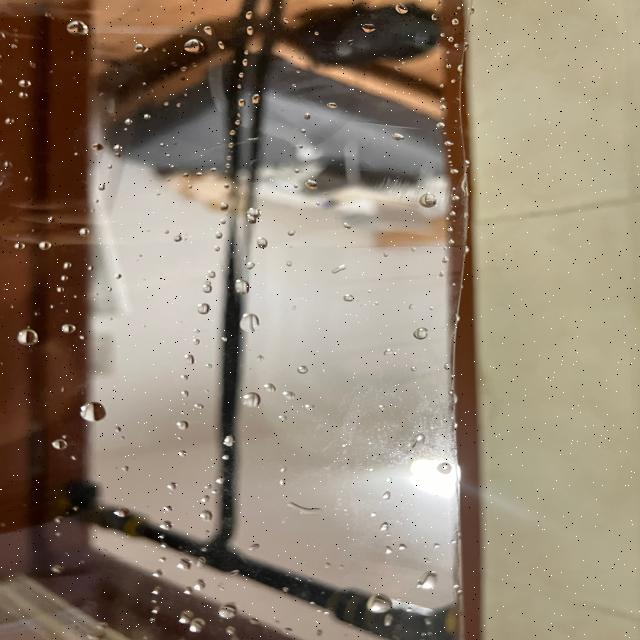raindrop: (408, 570, 442, 598), (289, 500, 329, 520), (13, 326, 40, 351), (212, 600, 244, 620), (238, 311, 263, 334), (78, 400, 102, 420), (234, 391, 258, 411), (362, 594, 388, 612), (189, 298, 216, 315), (170, 553, 196, 570), (169, 605, 193, 623), (218, 433, 245, 449), (152, 518, 177, 535), (240, 205, 262, 224), (15, 75, 36, 92), (421, 195, 443, 211), (239, 25, 259, 42), (48, 435, 69, 451), (326, 268, 350, 282), (201, 267, 223, 282), (364, 18, 382, 36), (126, 38, 150, 51), (412, 324, 429, 342), (35, 237, 54, 253), (230, 278, 251, 292), (182, 38, 199, 55), (164, 231, 182, 247), (67, 21, 86, 36), (184, 356, 203, 371), (112, 504, 132, 518), (38, 216, 58, 230), (171, 449, 194, 461), (196, 510, 217, 523), (188, 620, 205, 636), (172, 418, 190, 433), (197, 20, 216, 34), (390, 543, 412, 555), (53, 512, 70, 527), (222, 567, 240, 581), (197, 284, 216, 297), (386, 6, 406, 18), (215, 198, 232, 212), (69, 226, 87, 239), (376, 522, 391, 537), (59, 319, 75, 333), (143, 567, 163, 578), (161, 481, 181, 492), (335, 297, 354, 308), (385, 346, 402, 358), (437, 457, 447, 477), (144, 582, 158, 596), (219, 453, 235, 465), (237, 9, 254, 20), (340, 218, 354, 231), (44, 567, 64, 576), (3, 114, 15, 129), (259, 379, 278, 388), (215, 244, 229, 256), (19, 88, 32, 100), (241, 257, 255, 268), (379, 491, 393, 502), (15, 243, 28, 254), (298, 363, 309, 376), (199, 495, 211, 506), (257, 234, 267, 247), (246, 88, 261, 96), (191, 579, 208, 586), (148, 606, 159, 616), (179, 586, 190, 596), (216, 39, 226, 50)
